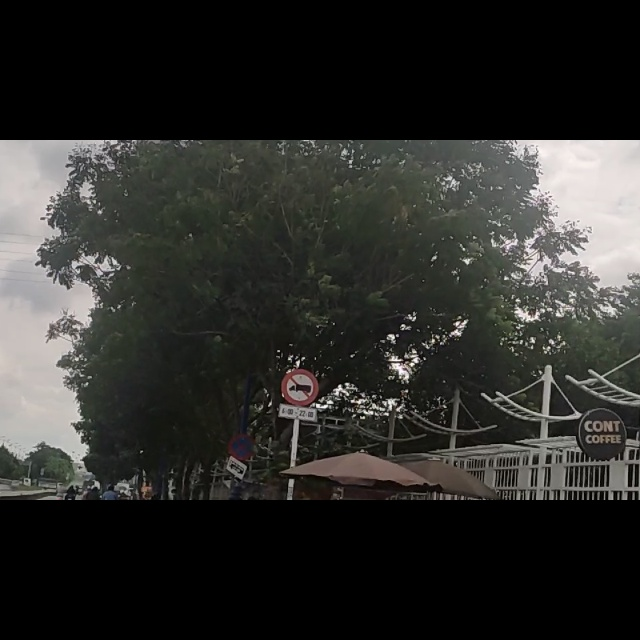bien_cam: (279, 408, 315, 498)
